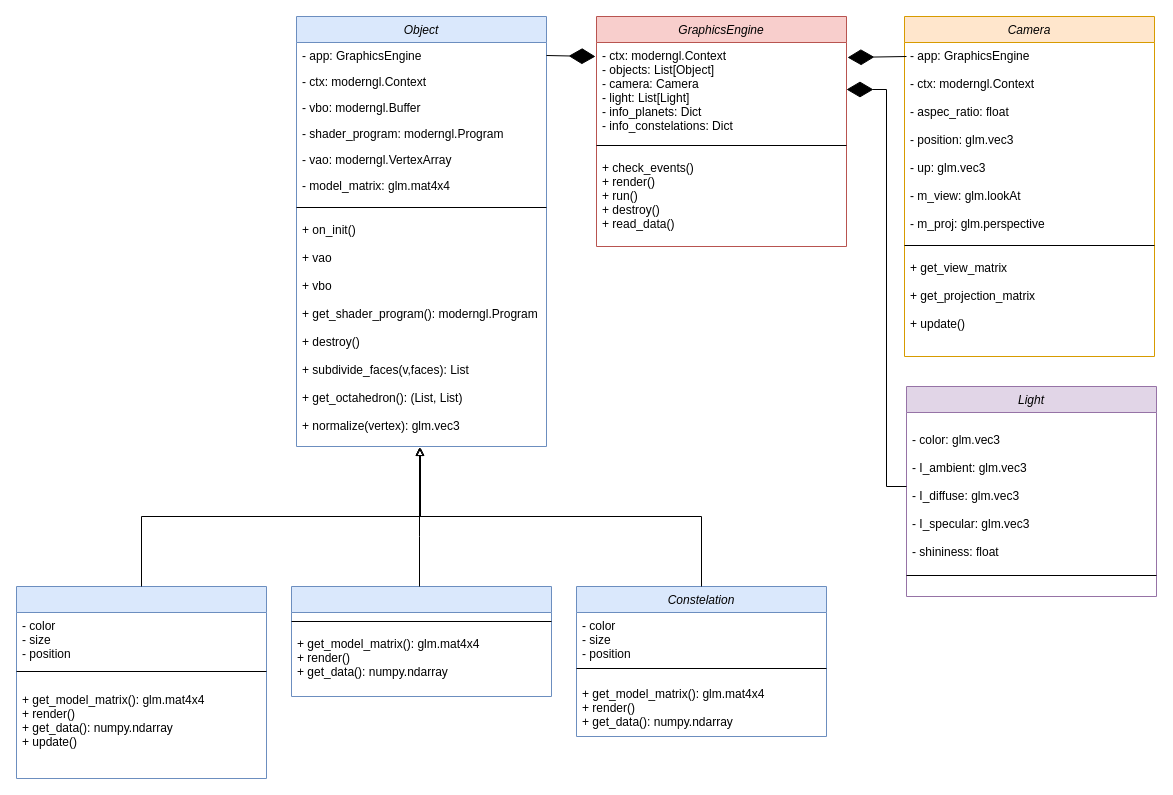
This 1173x795 diagram has some shape labels left out. Here are the shapes that lost their labels. From the top down, the box of each, then its label:
(290, 586, 552, 696): Sun
(16, 586, 266, 778): Planet
